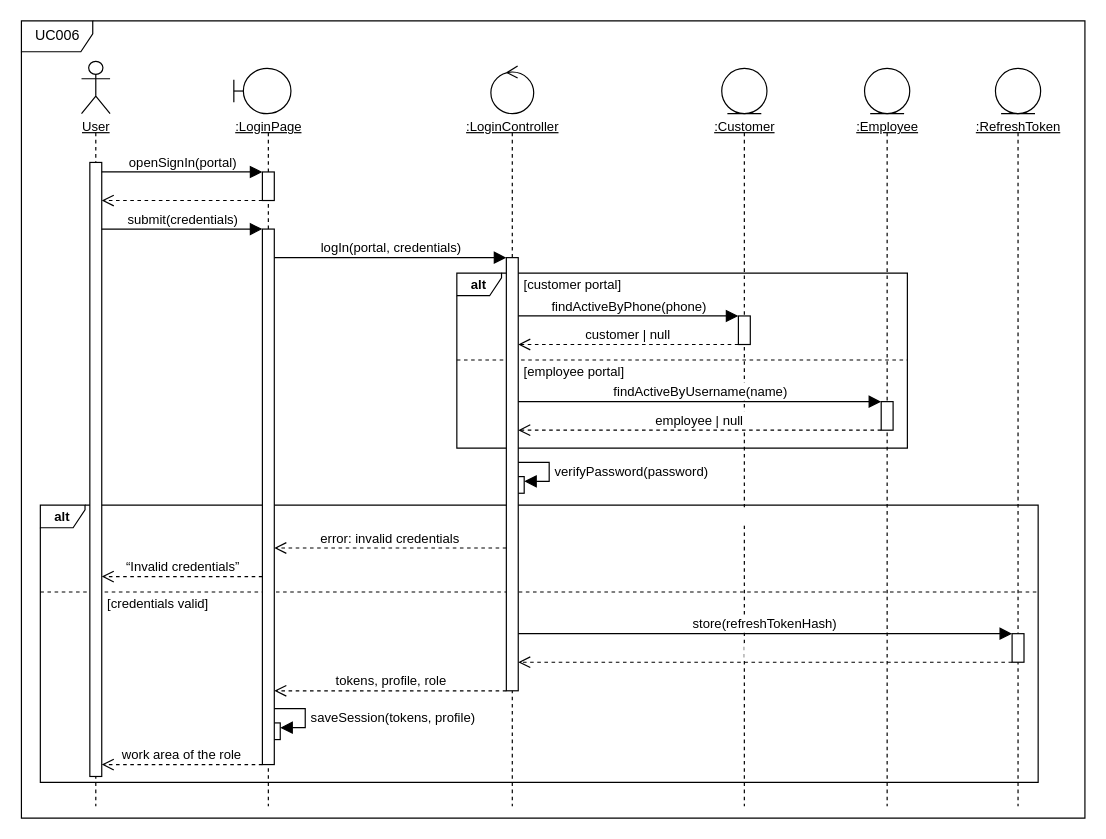
Some shapes in this 1106 by 839 pixel diagram are drawn without their labels. The centre of each missing label's shape, as x and y in pixels:
[no active account or wrong password]: (x=639, y=516)
login form: (x=181, y=190)
stored: (x=765, y=651)
